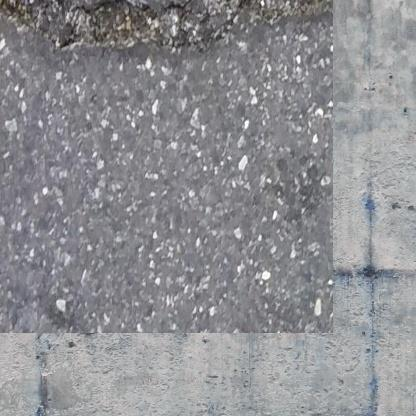Cracks: (0, 0, 308, 46)
